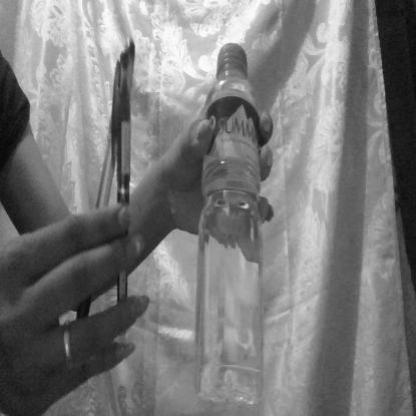Plastic Bottle: (165, 31, 303, 416)
